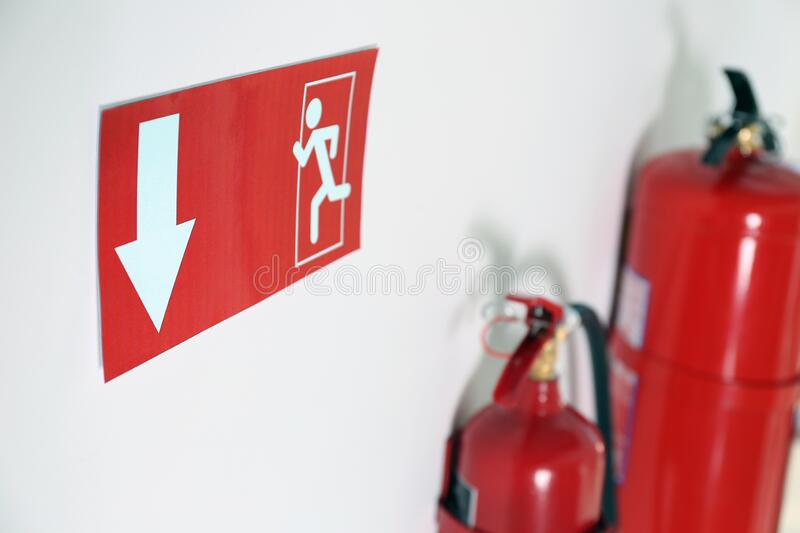fire_extinguisher: (604, 66, 799, 532), (435, 292, 615, 532)
